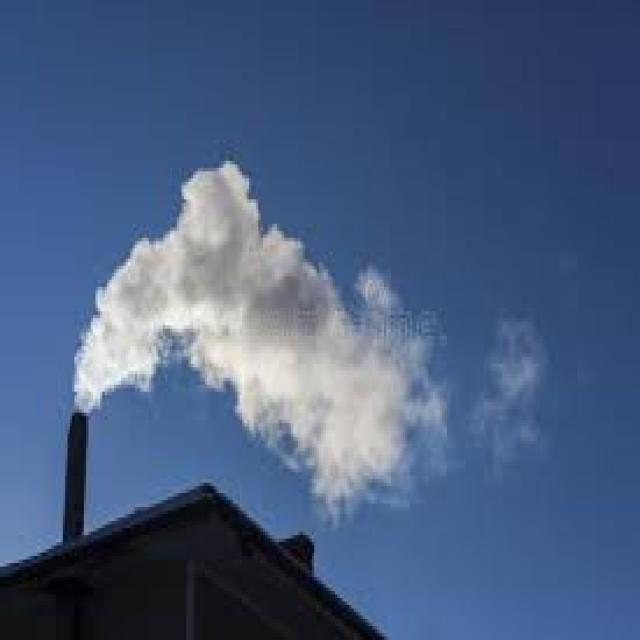Smoke: (71, 160, 452, 530)
